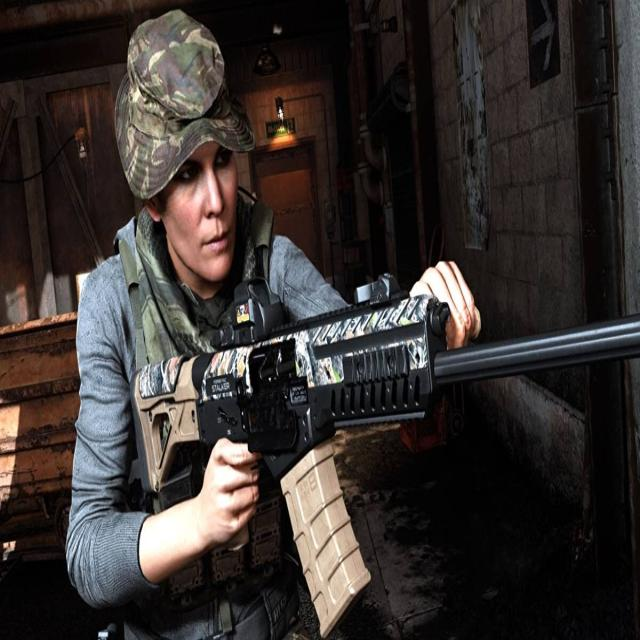Weapon: (129, 275, 640, 637)
